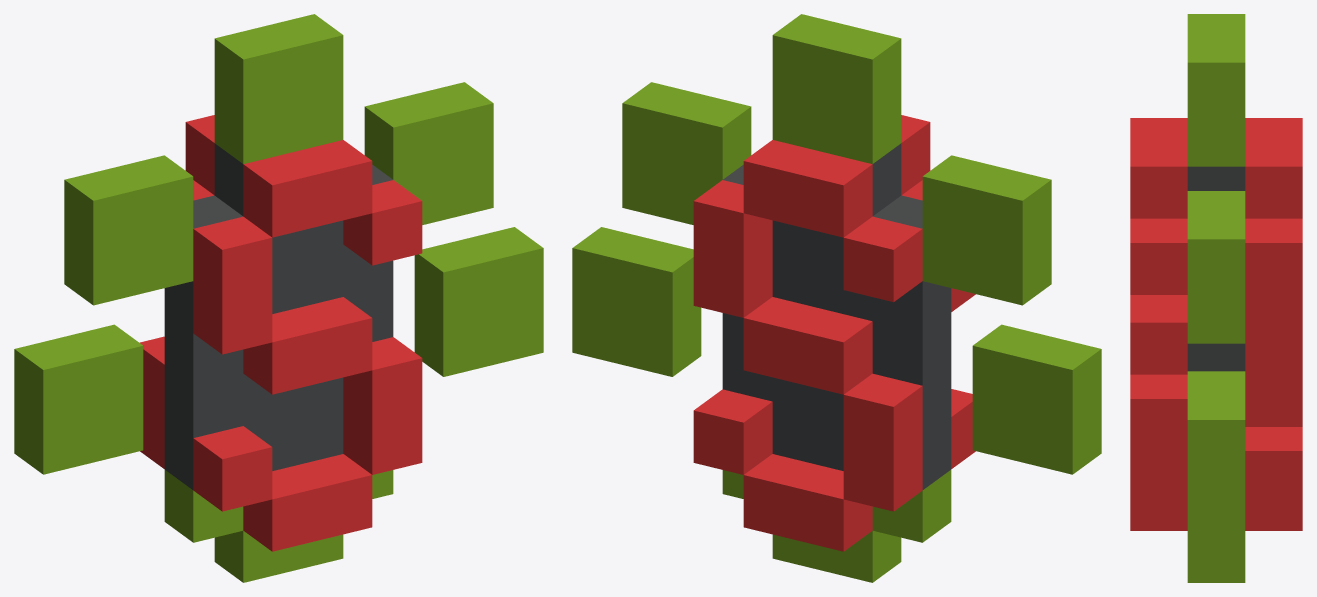
File: SpreadPickup.FBX
The picture shows the model from 3 angles, left to right: view 1: azimuth 30°, elevation 25°; view 2: azimuth 150°, elevation 25°; view 3: azimuth 270°, elevation 25°; orthographic projection.
Visible parts, largest first — view 1: model_SpreadPickup_obj; view 2: model_SpreadPickup_obj; view 3: model_SpreadPickup_obj.
Boxes of the visible parts, bbox=[...] form: model_SpreadPickup_obj: bbox=[14, 14, 543, 582]; model_SpreadPickup_obj: bbox=[572, 14, 1101, 582]; model_SpreadPickup_obj: bbox=[1130, 14, 1302, 582].
Bounding box in the file's own units: 10 × 10 × 3.
1 material, 1 textured.
